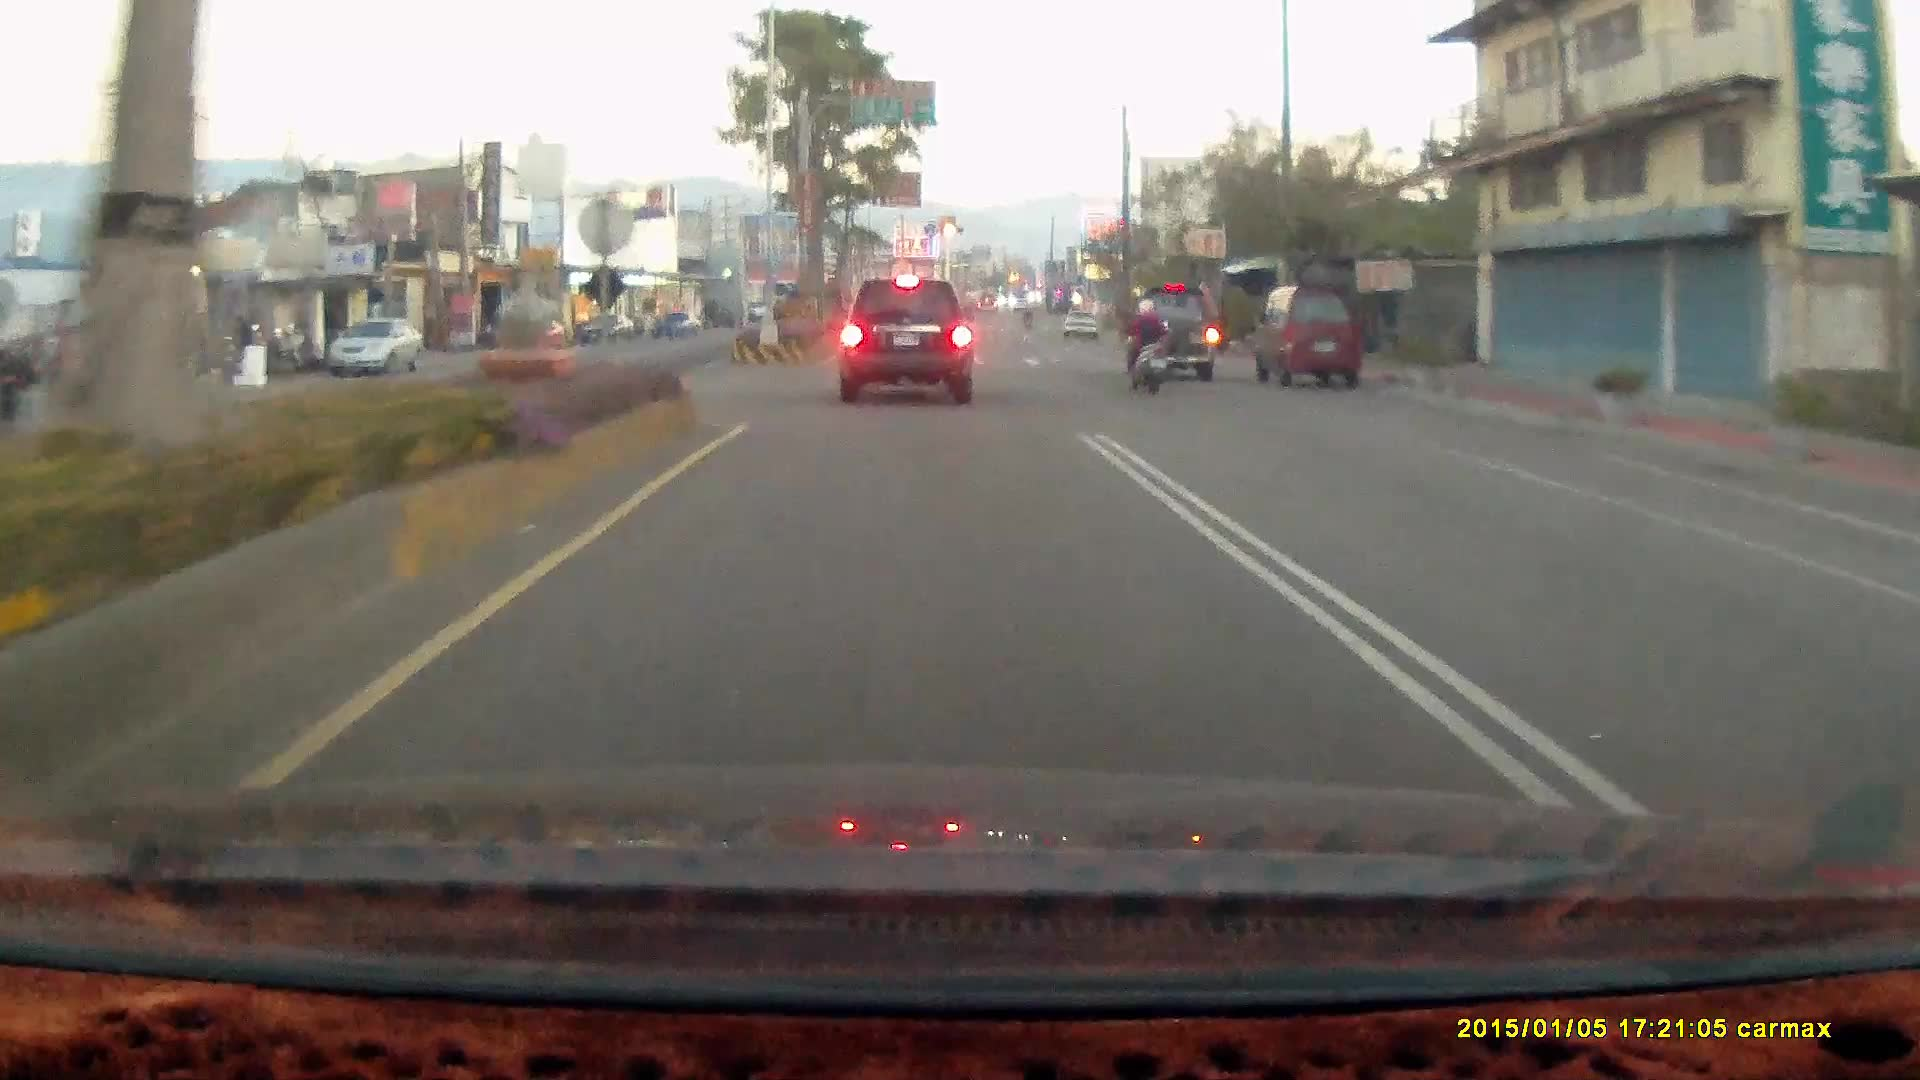pedestrian: (231, 311, 254, 376)
rider: (1120, 295, 1178, 392)
vehicle: (839, 277, 973, 402), (1253, 281, 1363, 390), (1257, 281, 1363, 390), (1126, 281, 1229, 381), (1122, 281, 1221, 381), (1896, 493, 1920, 836), (321, 318, 426, 377), (1883, 528, 1920, 690), (327, 318, 424, 377), (1061, 307, 1098, 337)
